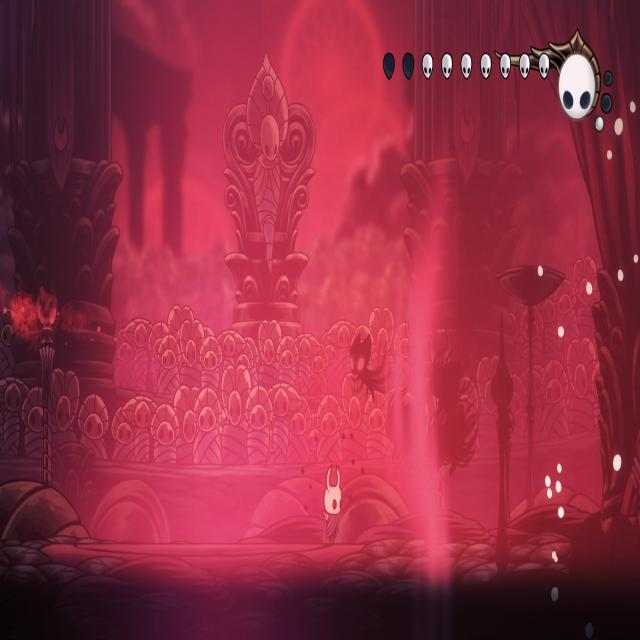Player: (320, 459, 345, 543)
Staggered_Grimm: (345, 319, 389, 404)
